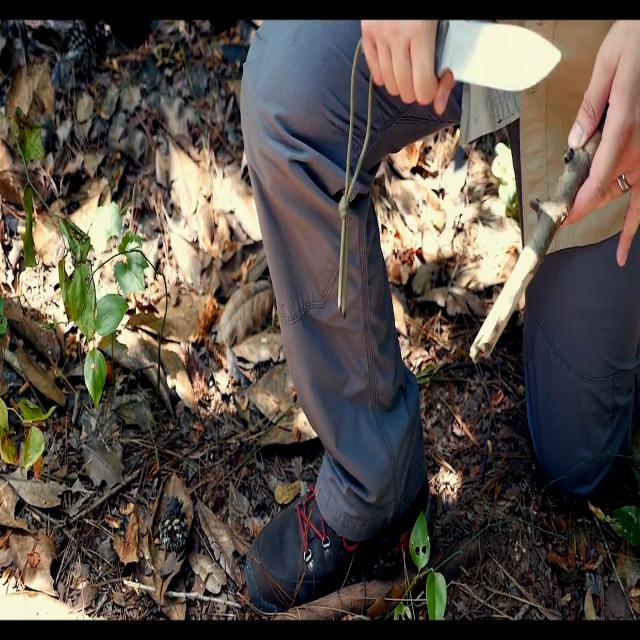knife: (432, 19, 566, 103)
